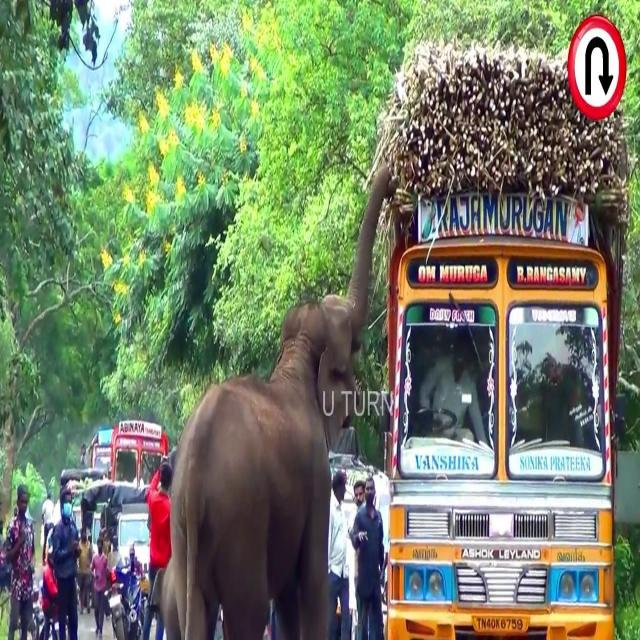Elephant: (165, 164, 398, 636)
